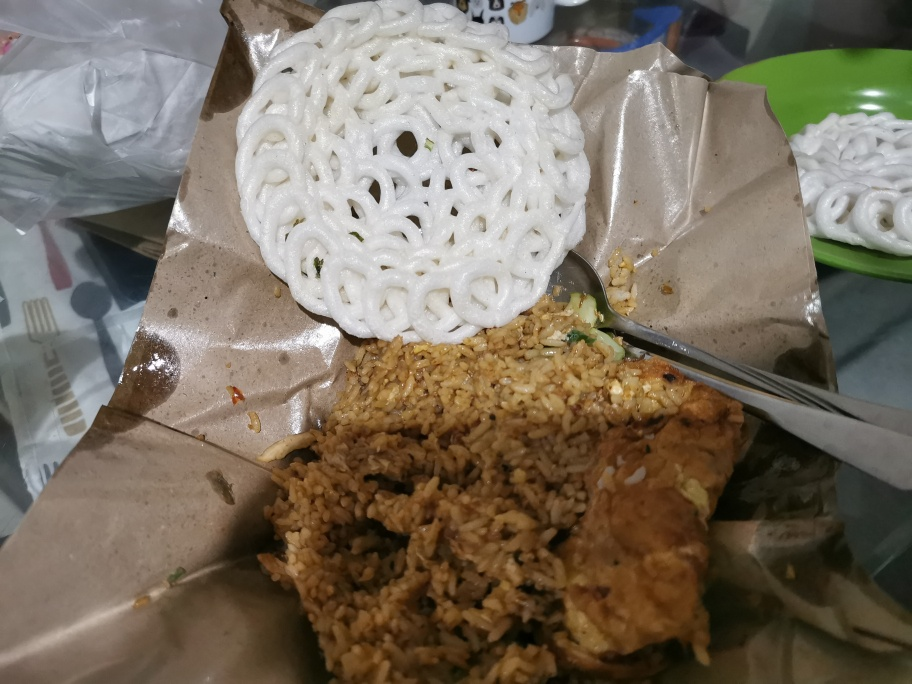kerupuk: (236, 1, 588, 328)
nasi goreng: (274, 340, 737, 674)
